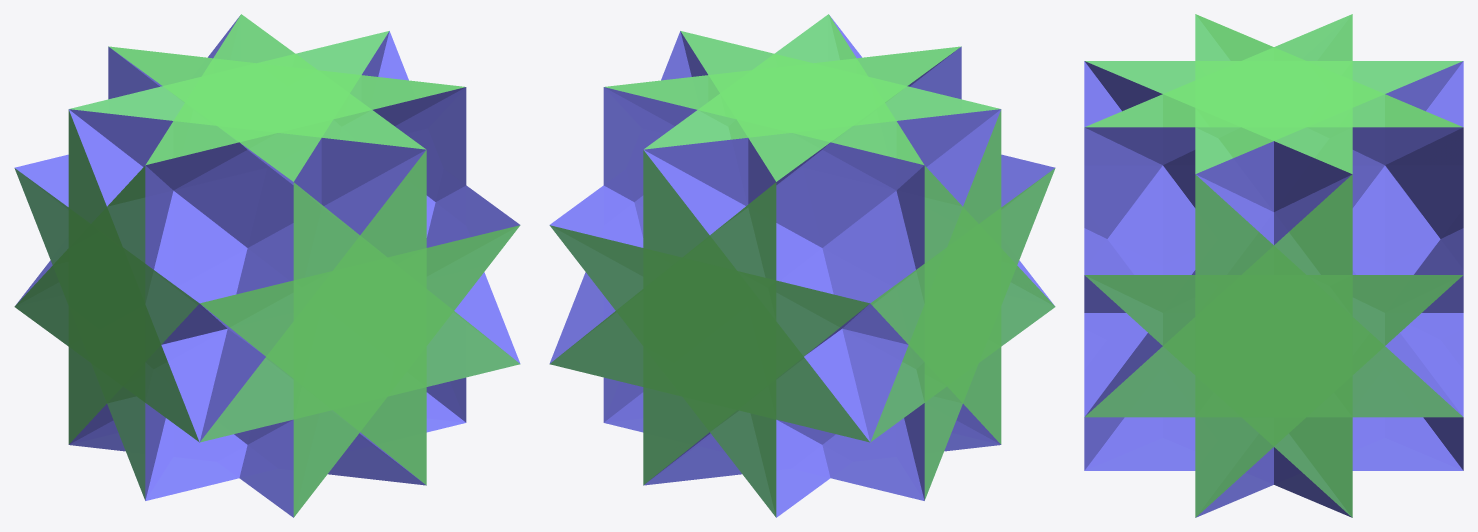
The model's file is GreatRhombihexahedron.obj.
3 renders of one model, left to right at view 1: azimuth 30°, elevation 25°; view 2: azimuth 150°, elevation 25°; view 3: azimuth 270°, elevation 25°, orthographic. The views are drawn at different scales.
Size of the model in its own units: 1 by 1 by 1.
